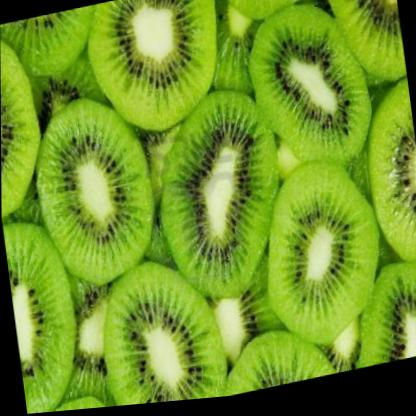kiwi: (249, 146, 407, 369), (13, 71, 164, 302), (144, 99, 301, 320), (237, 0, 385, 190), (84, 245, 236, 410), (82, 0, 234, 152), (2, 212, 93, 416), (0, 16, 52, 224)
